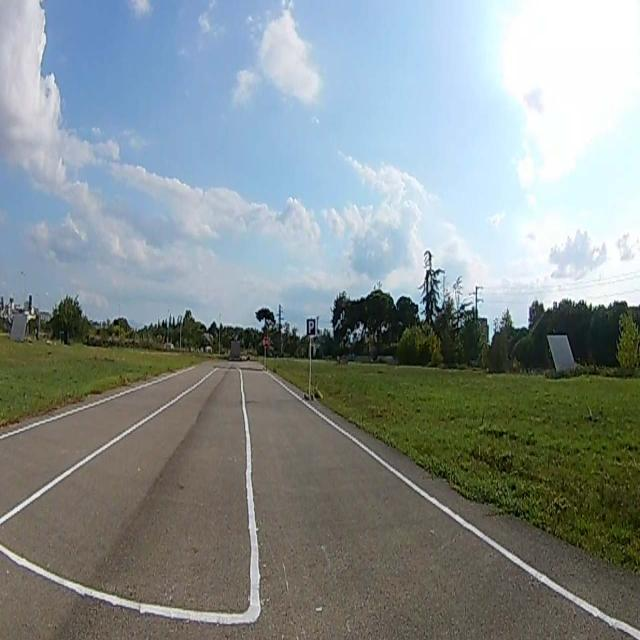park: (307, 320, 315, 334)
